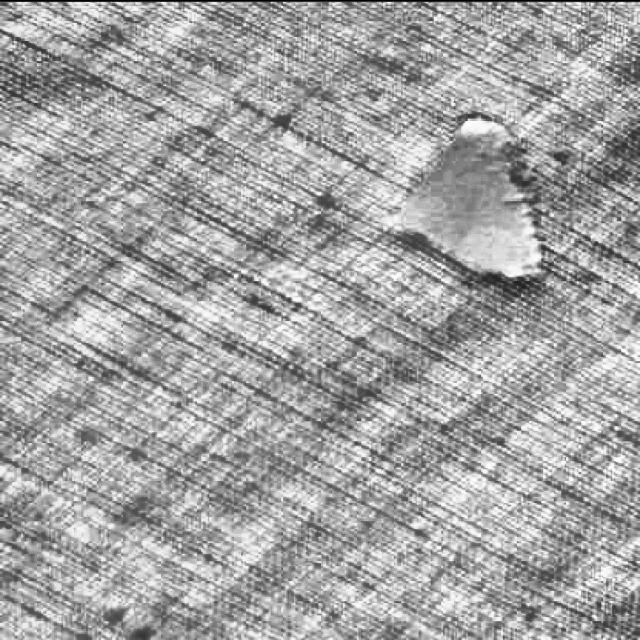objects: (363, 108, 561, 293)
